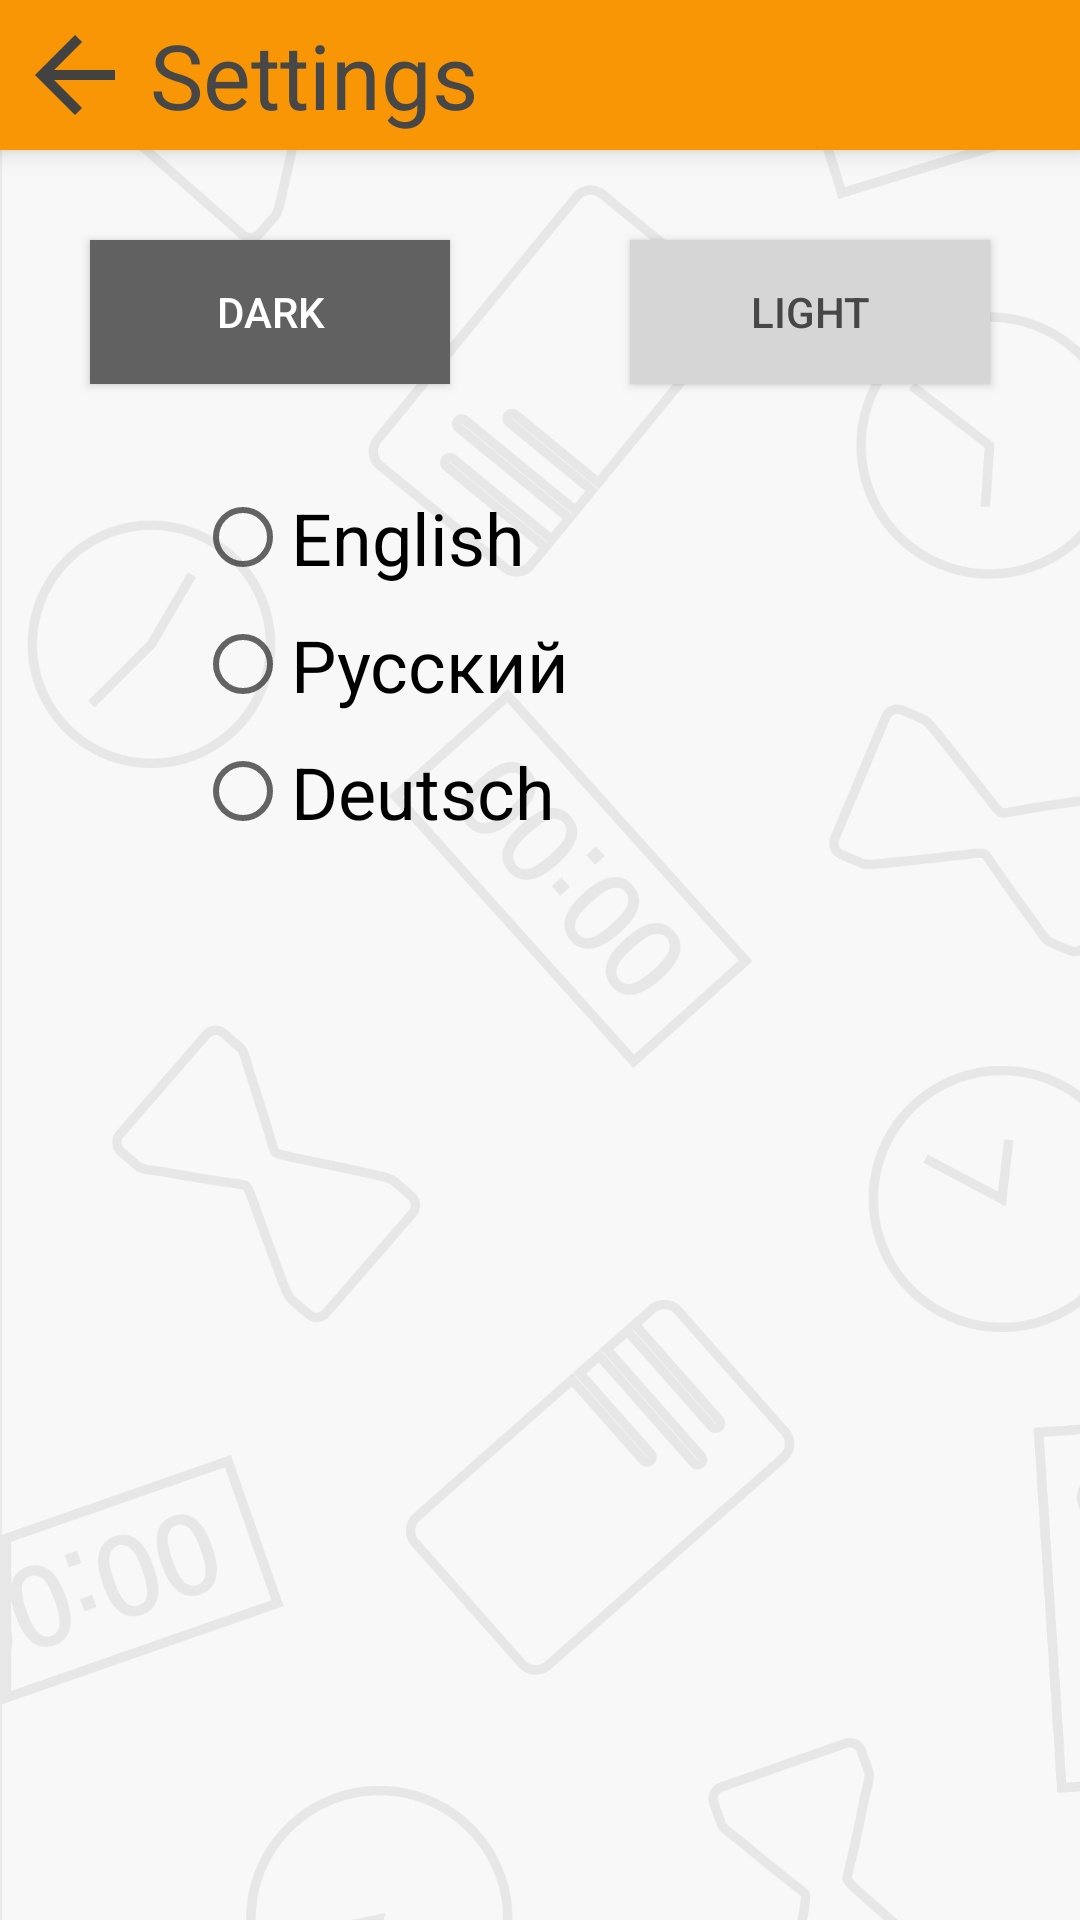

Screen size 1080×1920. Icon name, then its box in pixels as (x1, y1, x2, y2):
arrow back: (35, 35, 115, 115)
